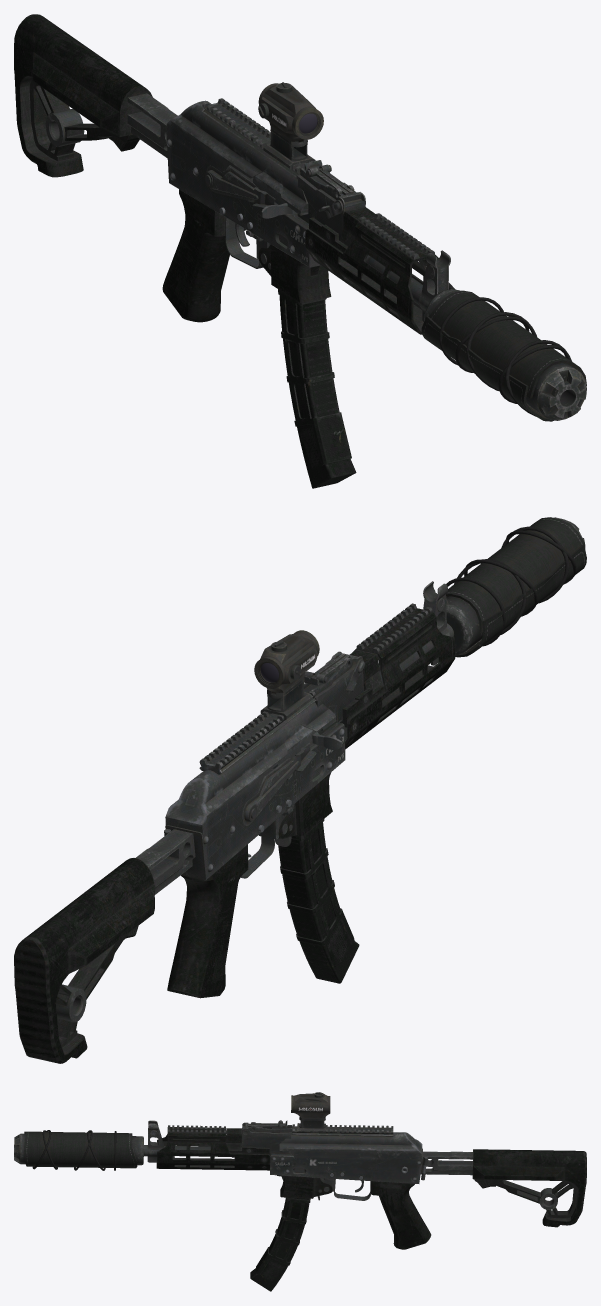
Rendered from pp_19_vit.gltf.
The picture shows the model from 3 angles, top to bottom: view 1: azimuth 30°, elevation 25°; view 2: azimuth 150°, elevation 25°; view 3: azimuth 270°, elevation 25°; orthographic projection. The views are drawn at different scales.
Parts seen in each view (by area): view 1: WEAPON, MAG, ejection_part; view 2: WEAPON, MAG, ejection_part; view 3: WEAPON, MAG.
Boxes of the visible parts, x1=… form: WEAPON: x1=14, y1=14, x2=586, y2=421; MAG: x1=278, y1=289, x2=356, y2=488; ejection_part: x1=253, y1=169, x2=297, y2=218; WEAPON: x1=14, y1=517, x2=586, y2=1063; MAG: x1=278, y1=819, x2=359, y2=983; ejection_part: x1=273, y1=724, x2=342, y2=768; WEAPON: x1=14, y1=1092, x2=586, y2=1249; MAG: x1=250, y1=1197, x2=310, y2=1291.
Bounding box in the file's own units: 0.0799 × 0.3605 × 0.9508.
2 materials, 2 textured.
